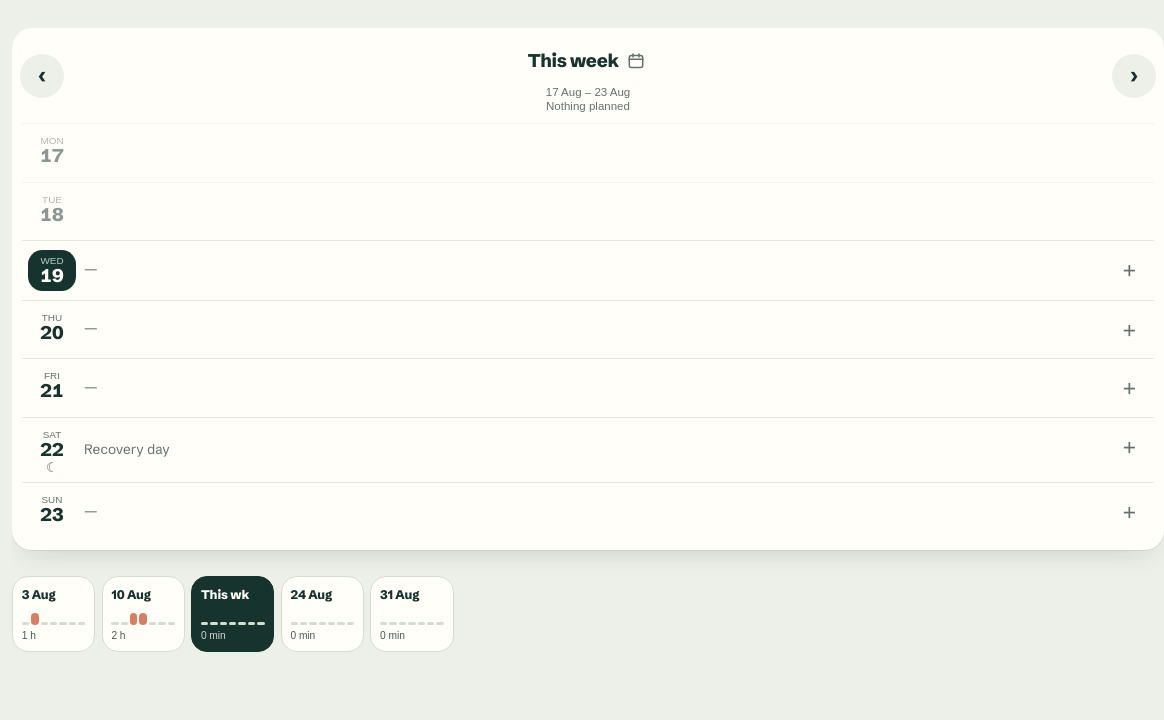
it: PlanManager › opens on this week with the weeks before it behind, read-only
Expected: the heading "This week" is shown, x1=528 y1=47 x2=619 y2=75
Expected: the button "This wk 0 min" is shown, x1=191 y1=576 x2=274 y2=652
Click the button named "Previous week".
click(42, 76)  # box x1=20 y1=54 x2=64 y2=98
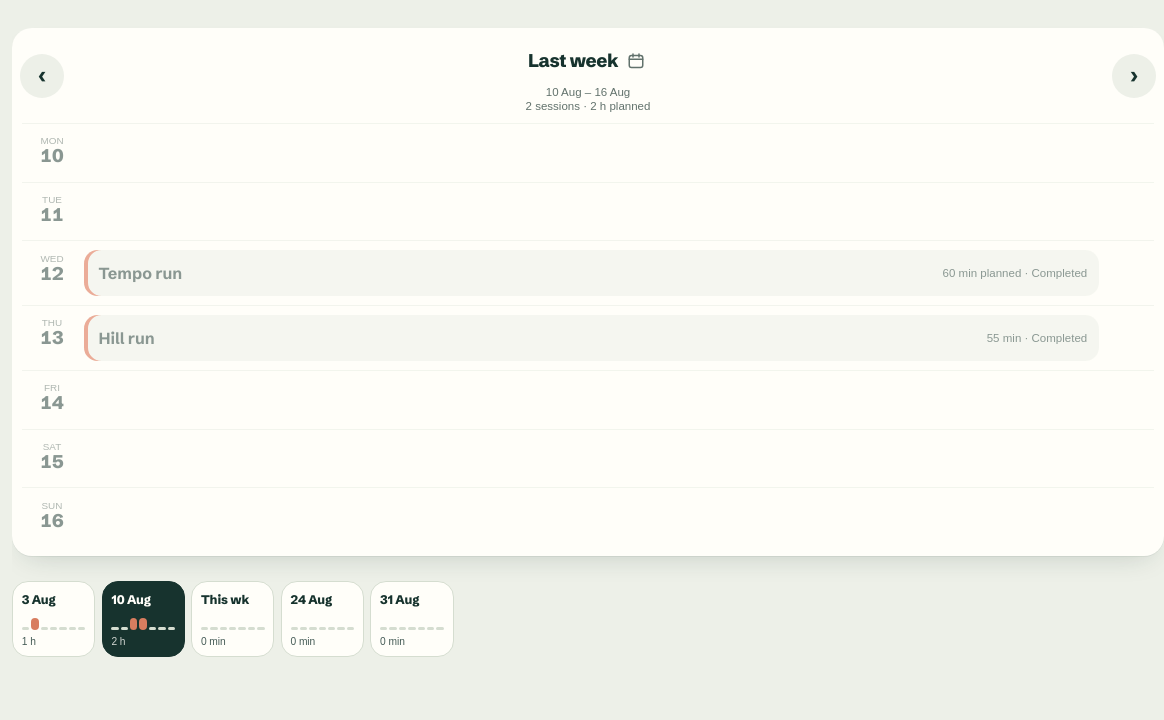
Now the heading "Last week" is shown, box x1=528 y1=47 x2=618 y2=75
// Further back a week is named by its dates, and the earliest is the end.
Click the button named "Previous week".
click(42, 76)  # box x1=20 y1=54 x2=64 y2=98
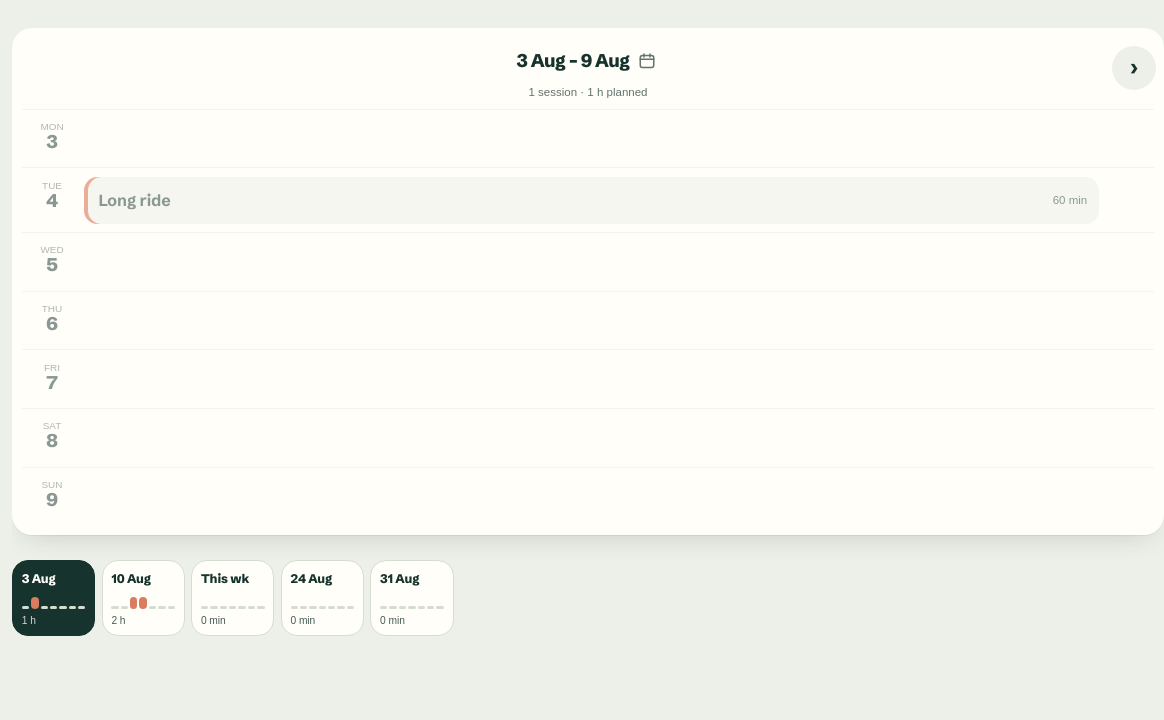
Now the heading "3 Aug – 9 Aug" is shown, box x1=517 y1=47 x2=630 y2=75
Now the link "Long ride" is shown, box x1=98 y1=190 x2=171 y2=210
